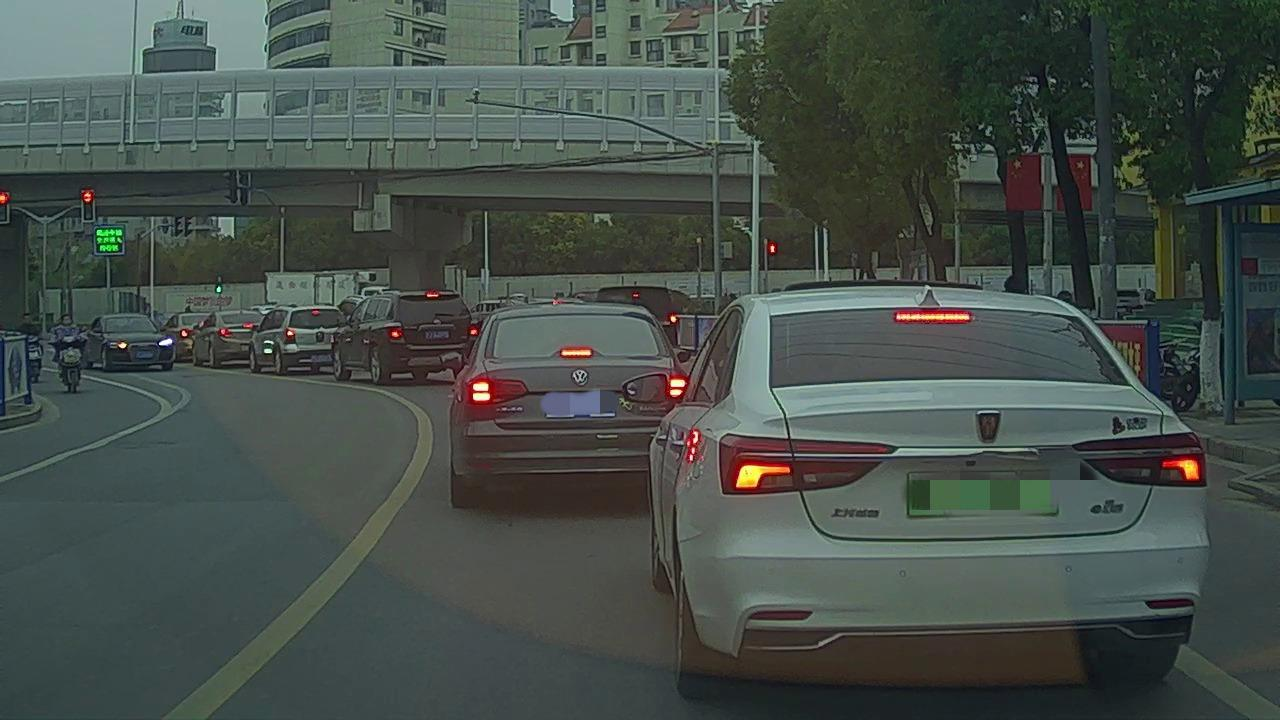traffic_light: (82, 191, 95, 222), (1, 194, 11, 223)
